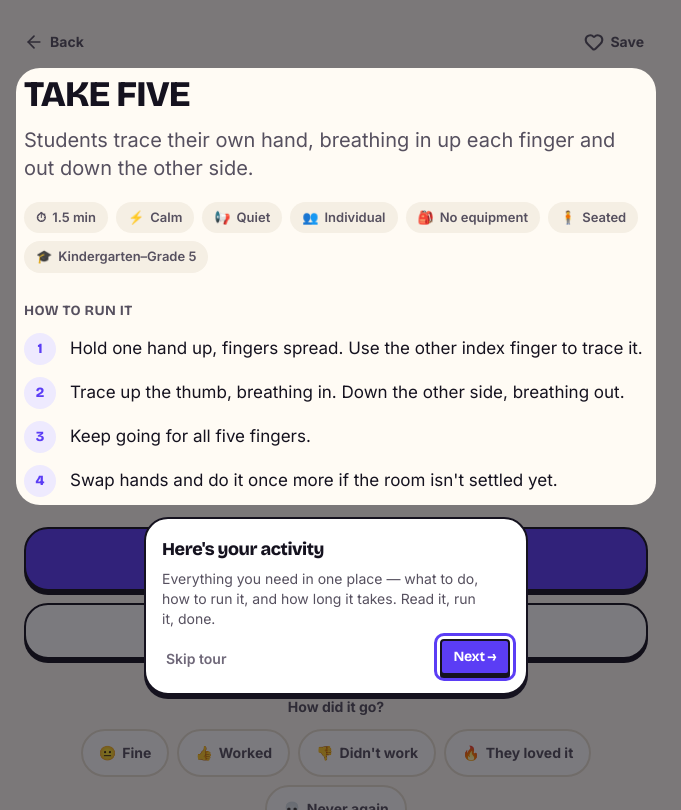
Test: ActivityScreen guided tour › Next walks card → another → feedback → save
Step 1. Click the button "Next →" → (475,657), box x1=440 y1=639 x2=510 y2=675
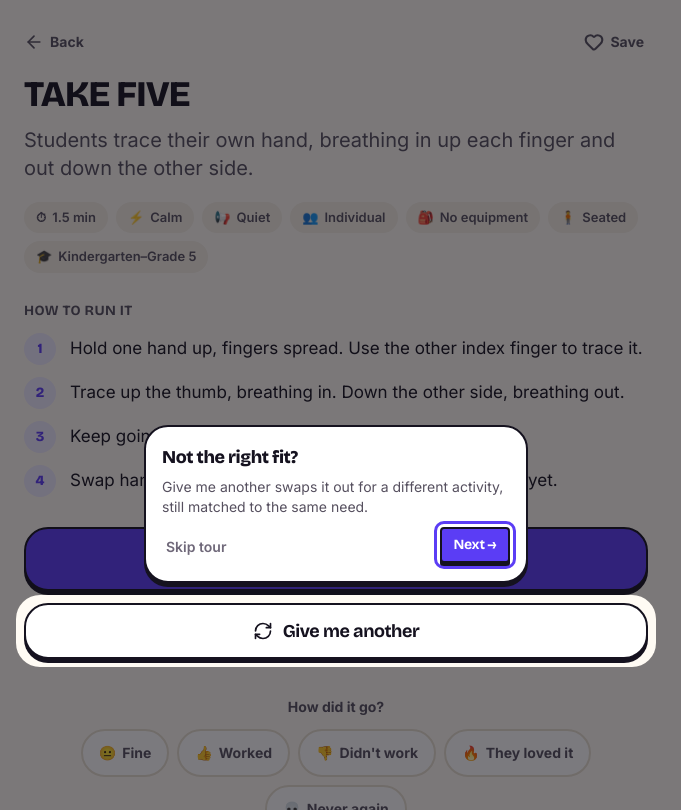
Expected: the text "Not the right fit?" is shown, x1=162 y1=446 x2=298 y2=468
Step 2. Click the button "Next →" → (475,545), box x1=440 y1=527 x2=510 y2=563
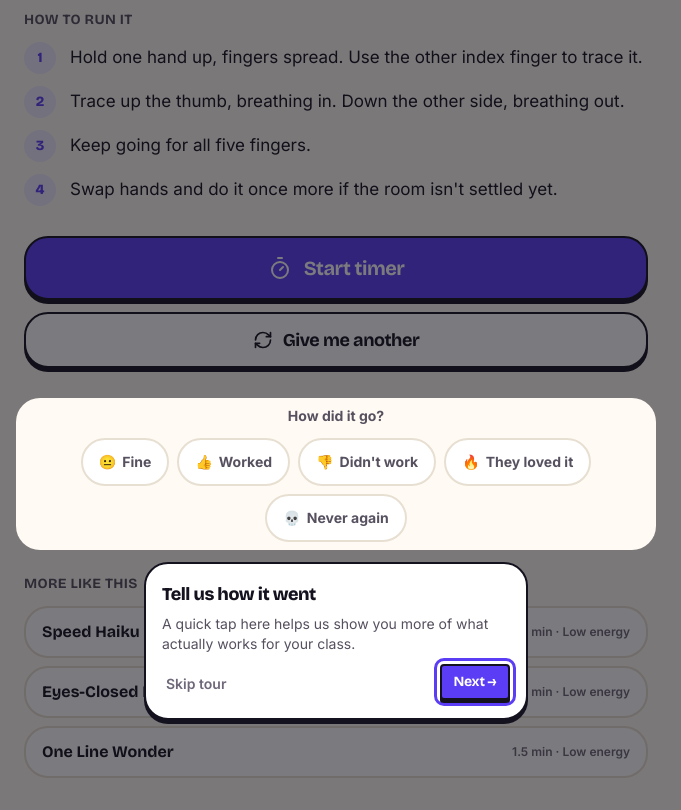
Expected: the text "Tell us how it went" is shown, x1=162 y1=583 x2=316 y2=605
Step 3. Click the button "Next →" → (475,682), box x1=440 y1=664 x2=510 y2=700
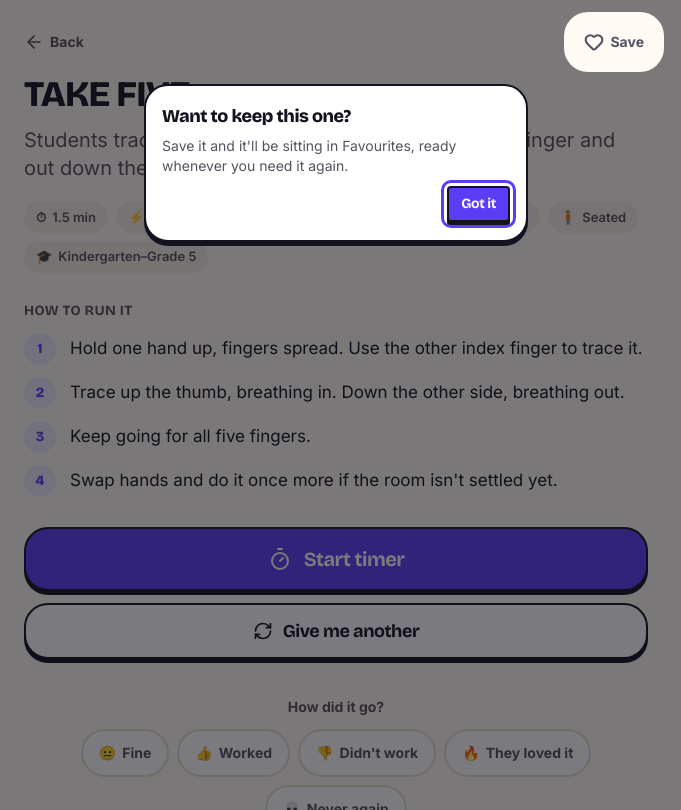
Expected: the text "Want to keep this one?" is shown, x1=162 y1=105 x2=351 y2=127
